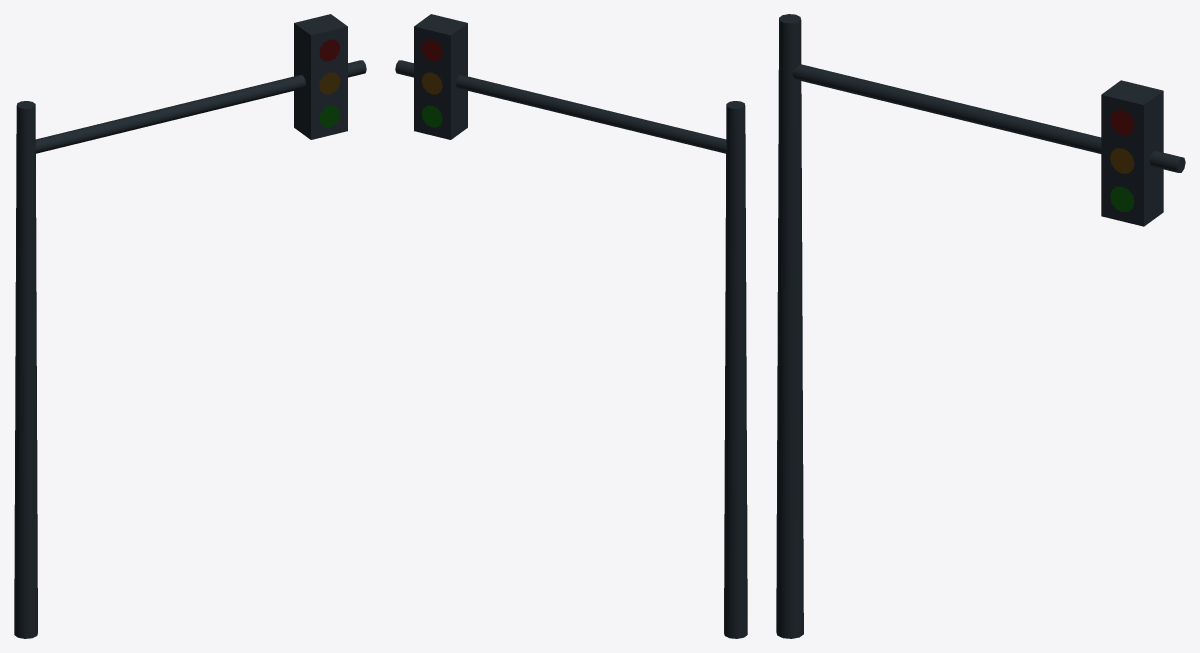
Rendered from traffic-light.glb.
The picture shows the model from 3 angles, left to right: view 1: azimuth 30°, elevation 25°; view 2: azimuth 150°, elevation 25°; view 3: azimuth 330°, elevation 25°; orthographic projection. The views are drawn at different scales.
Size of the model in its own units: 3.3 by 4.88 by 0.29.
